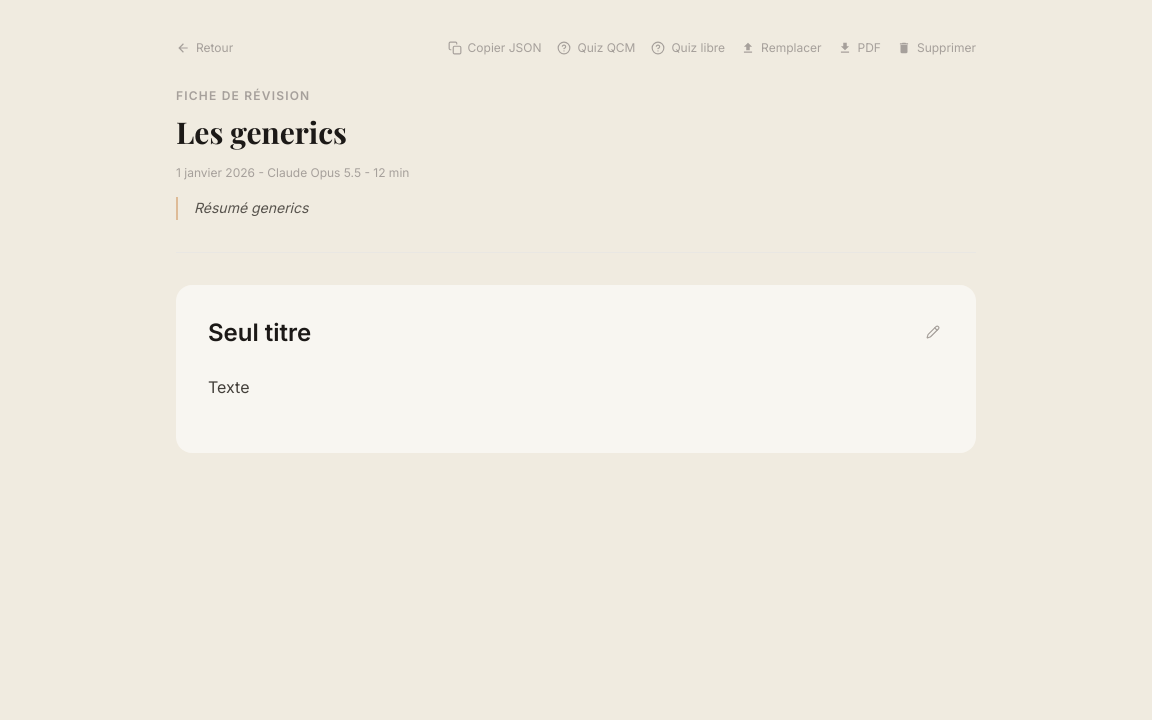
FlashCardDetailPage replace › opens a modal with a warning and no category selector
The width and height of the screenshot is (1152, 720).
What coordinates should you click on to do the following:
click the button "Remplacer"
I would click on:
 (781, 48)
Its box is [741,40,822,56].
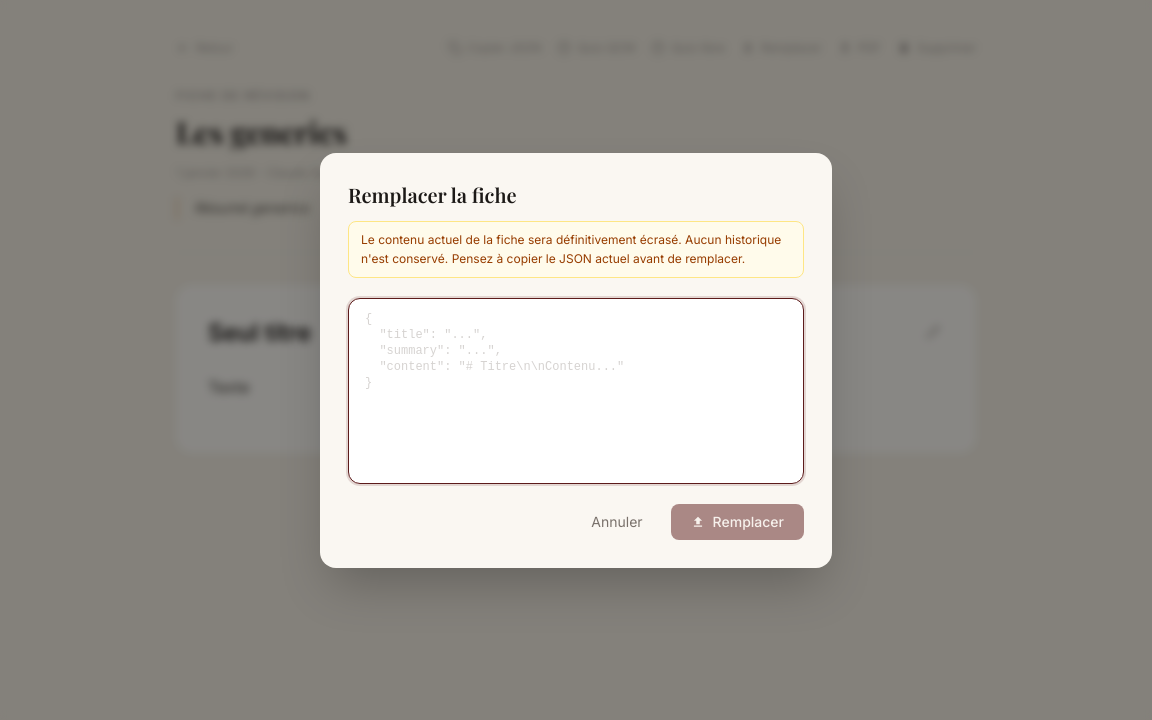
Expected: the text "sera définitivement écrasé" is shown, [361,232,781,266]
Expected: the text box named "JSON de la fiche" is empty, [348,298,804,484]
